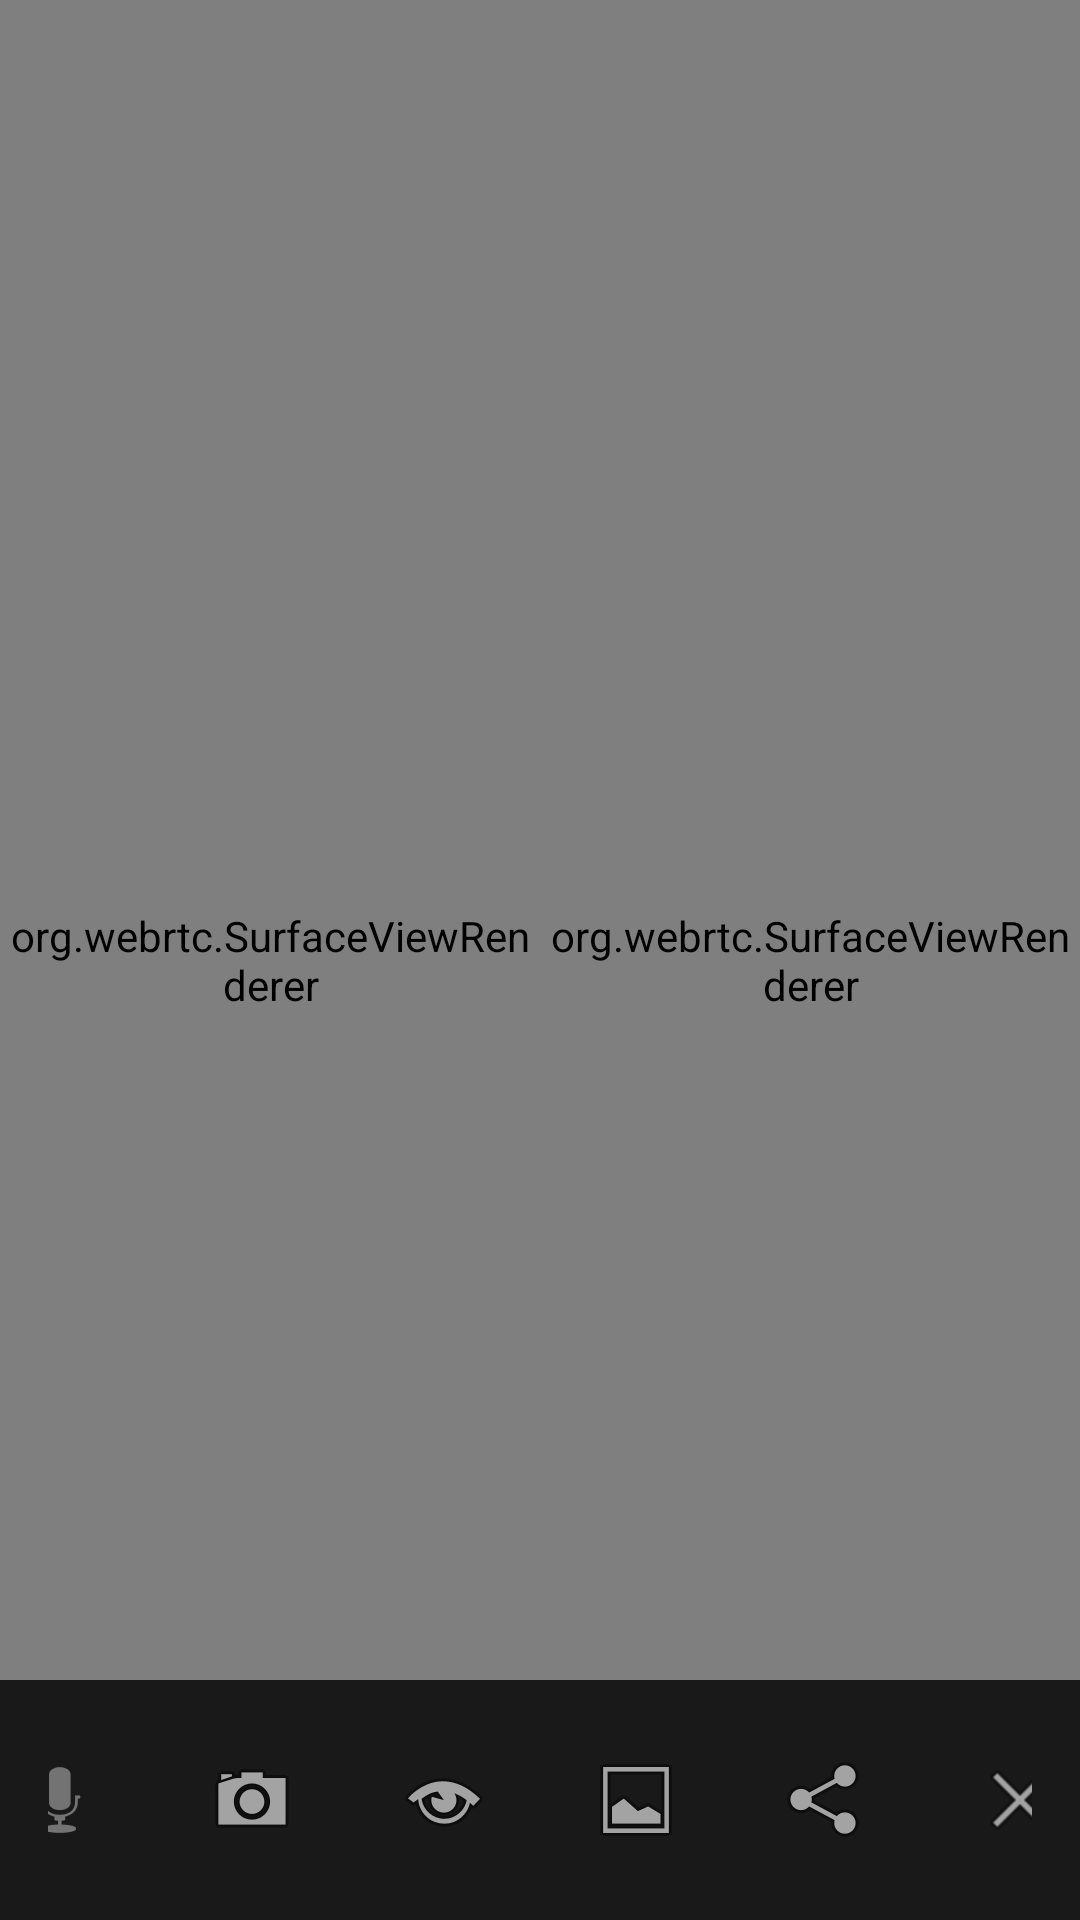

Where icons sit on this 1080x1920 app screen, as (x1, y1, x2, y2):
camera: (218, 1772, 286, 1825)
gallery: (603, 1767, 669, 1833)
share: (790, 1765, 856, 1834)
speak now: (48, 1767, 81, 1833)
